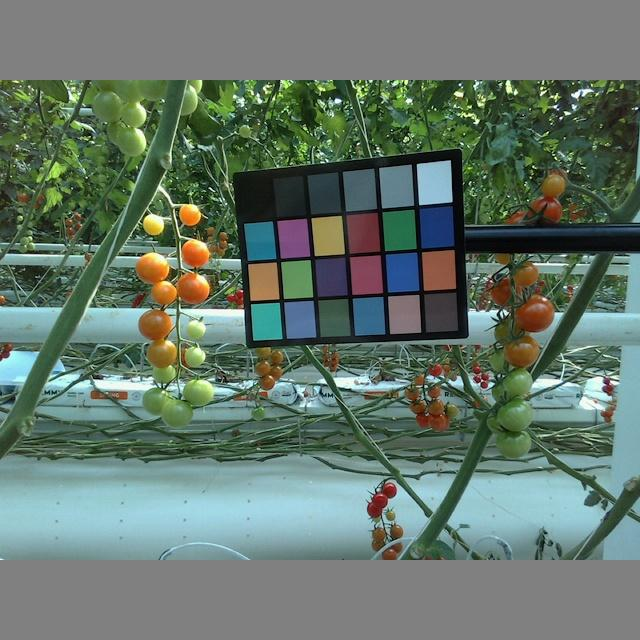green: (495, 430, 533, 460), (497, 398, 532, 430), (159, 398, 196, 428), (90, 90, 124, 122), (136, 81, 180, 105), (140, 388, 177, 416), (183, 377, 216, 406), (117, 99, 148, 128), (503, 370, 537, 396), (118, 126, 146, 157), (151, 361, 178, 385), (183, 344, 208, 366), (184, 319, 205, 337)
pink: (515, 293, 556, 332), (139, 305, 174, 341), (488, 273, 524, 306), (525, 198, 564, 227), (176, 271, 210, 304), (134, 252, 170, 283), (504, 338, 539, 369), (182, 237, 211, 270), (145, 338, 178, 367), (514, 264, 542, 290), (150, 279, 177, 305), (541, 172, 566, 199), (178, 202, 201, 226), (142, 213, 165, 235)
